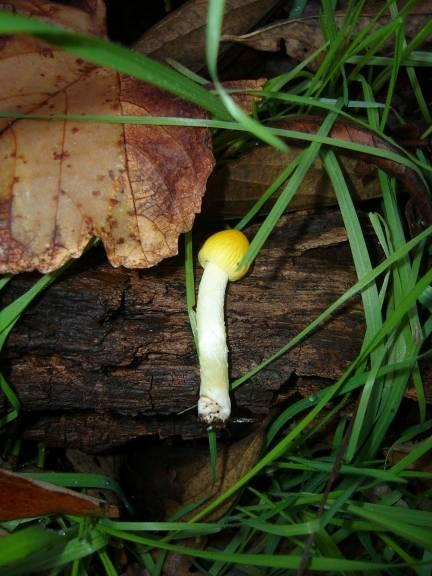Edible Mushroom: (193, 227, 252, 428)
